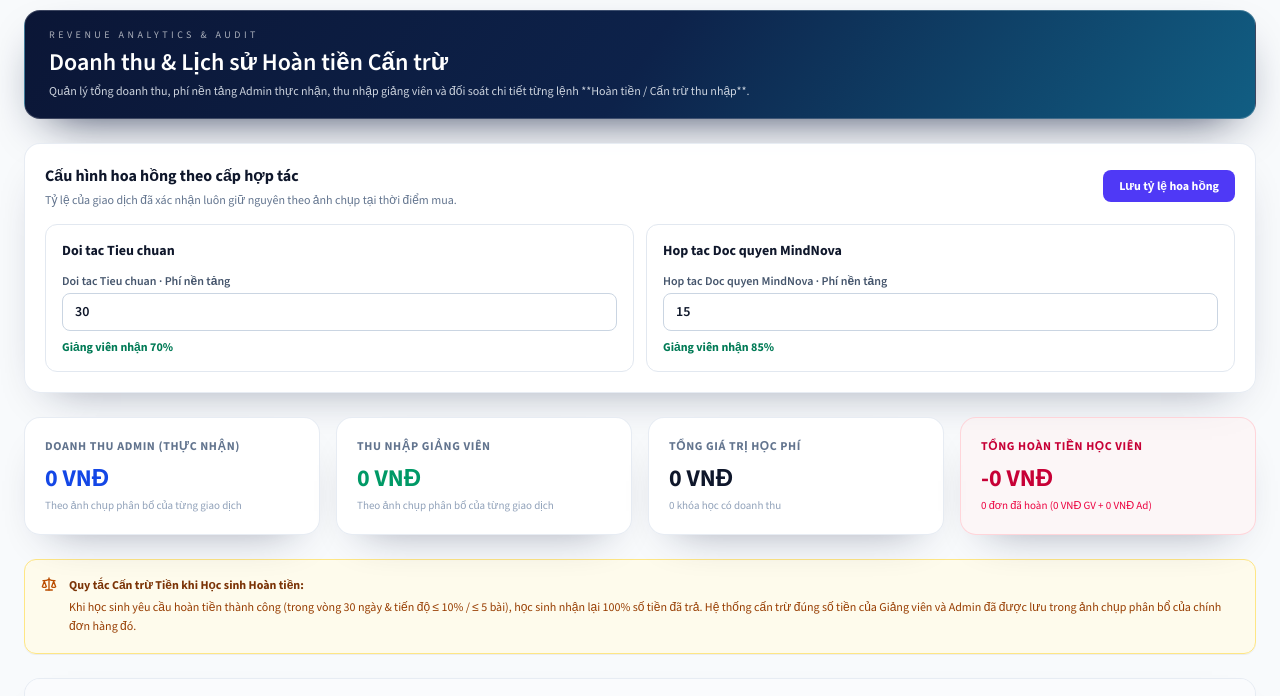
Test: AdminRevenueView commission tiers › preserves commission edits when saving fails
Replace the text in the number field labelled "Doi tac Tieu chuan · Phí nền tảng" with "24" at (340, 312), box 62,292 -> 617,330
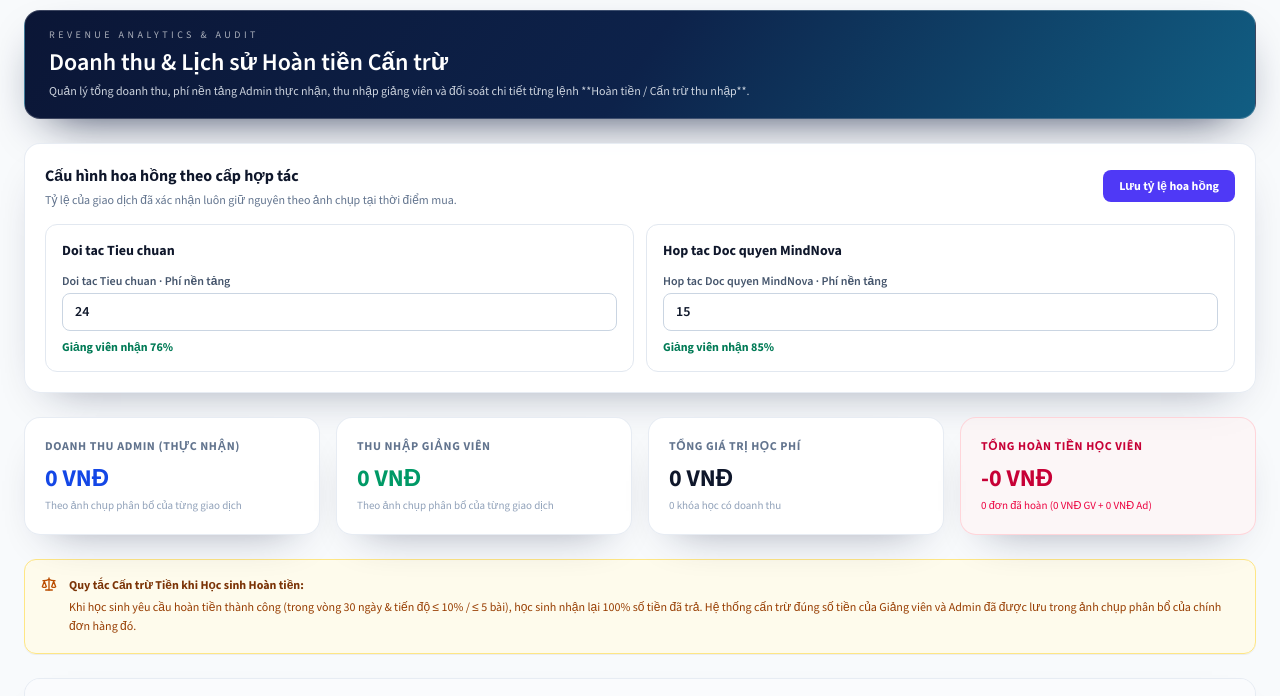
Click the button "Lưu tỷ lệ hoa hồng" at (1169, 186), box 1103,170 -> 1235,202
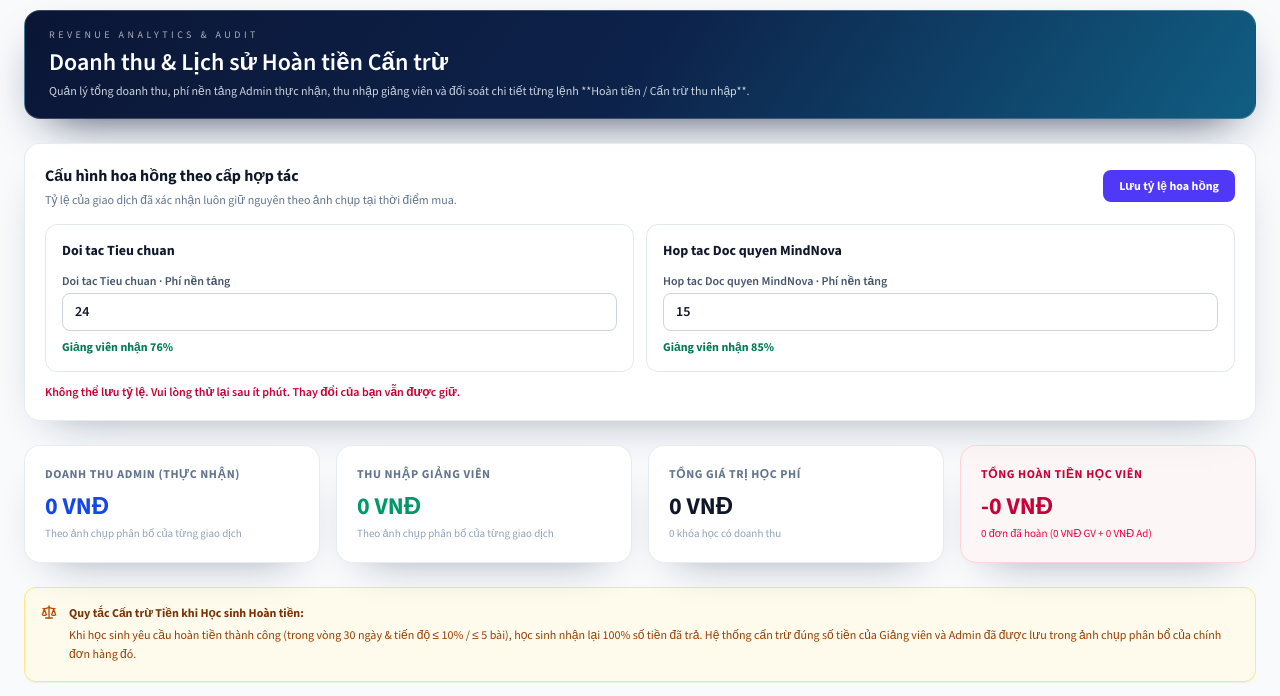
Check: the message shows "Không thể lưu tỷ lệ", box 45,384 -> 290,400
